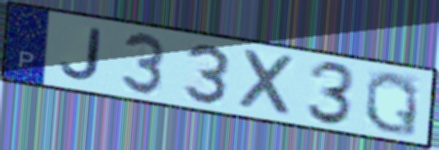3: (306, 59, 357, 127), (180, 42, 233, 106), (118, 31, 168, 96)
J: (58, 26, 104, 83)
Q: (363, 69, 421, 139)
X: (238, 46, 300, 120)
